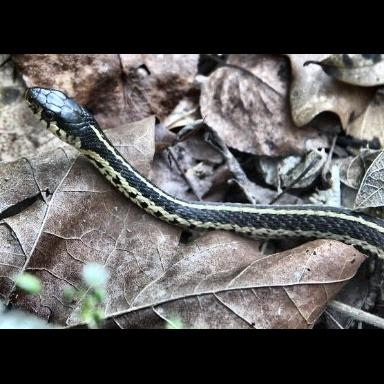snake: (29, 88, 384, 262)
